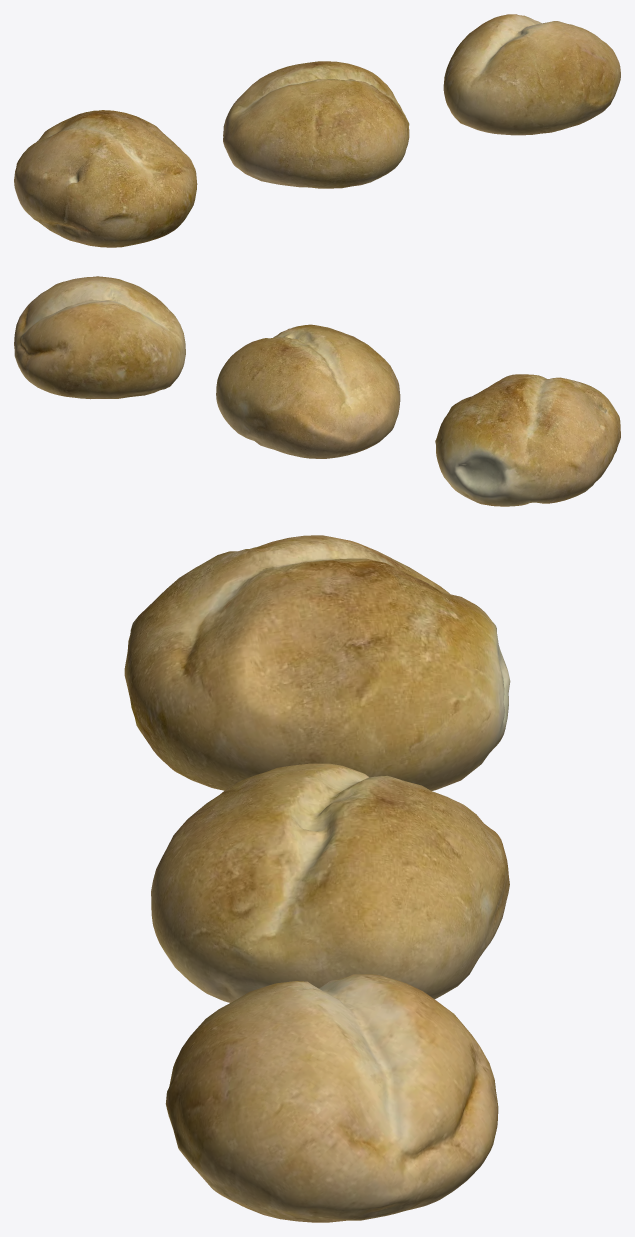
File: hamburger_buns.glb
3 views of the same model, one above another, from view 1: azimuth 30°, elevation 25°; view 2: azimuth 150°, elevation 25°; view 3: azimuth 270°, elevation 25° (orthographic). The views are drawn at different scales.
Parts seen in each view (by area): view 1: hamburger_buns_01, hamburger_buns_02, hamburger_buns_03; view 2: hamburger_buns_01, hamburger_buns_02, hamburger_buns_03; view 3: hamburger_buns_01, hamburger_buns_02, hamburger_buns_03.
Part boxes in pixels (x1,y1,x2,y2): hamburger_buns_01: (14,110,197,247); hamburger_buns_02: (223,61,409,188); hamburger_buns_03: (443,14,620,135); hamburger_buns_01: (435,374,620,506); hamburger_buns_02: (216,324,400,458); hamburger_buns_03: (14,276,185,399); hamburger_buns_01: (124,535,510,790); hamburger_buns_02: (151,763,509,1002); hamburger_buns_03: (165,974,498,1222).
Bounding box in the file's own units: 0.3972 × 0.0634 × 0.1138.
Materials: 1 (1 with a texture image).
